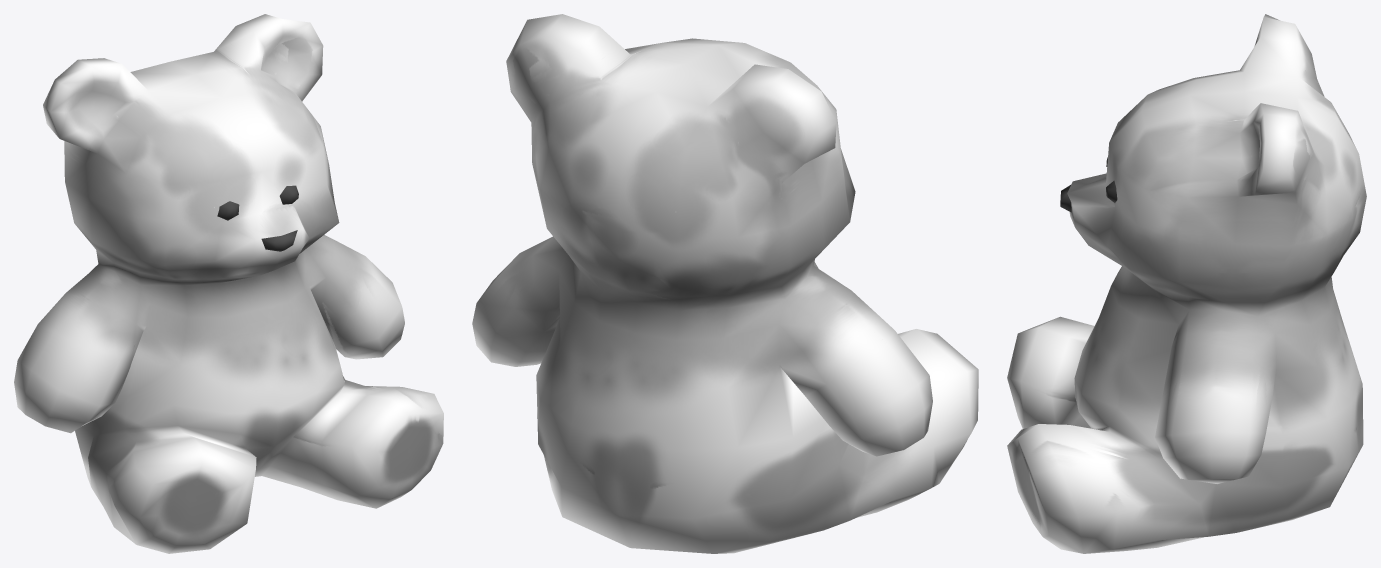
File: Ursinho 1.fbx
3 renders of one model, left to right at view 1: azimuth 30°, elevation 25°; view 2: azimuth 150°, elevation 25°; view 3: azimuth 270°, elevation 25°, orthographic. The views are drawn at different scales.
Parts seen in each view (by area): view 1: bear, eye_r.001; view 2: bear; view 3: bear.
Boxes of the visible parts, x1,y1,x2,y2 form: bear: [14, 14, 443, 553]; eye_r.001: [217, 185, 298, 220]; bear: [472, 14, 978, 553]; bear: [1007, 14, 1366, 553].
Size of the model in its own units: 37.38 by 39.69 by 30.28.
Materials: 3 (1 with a texture image).
